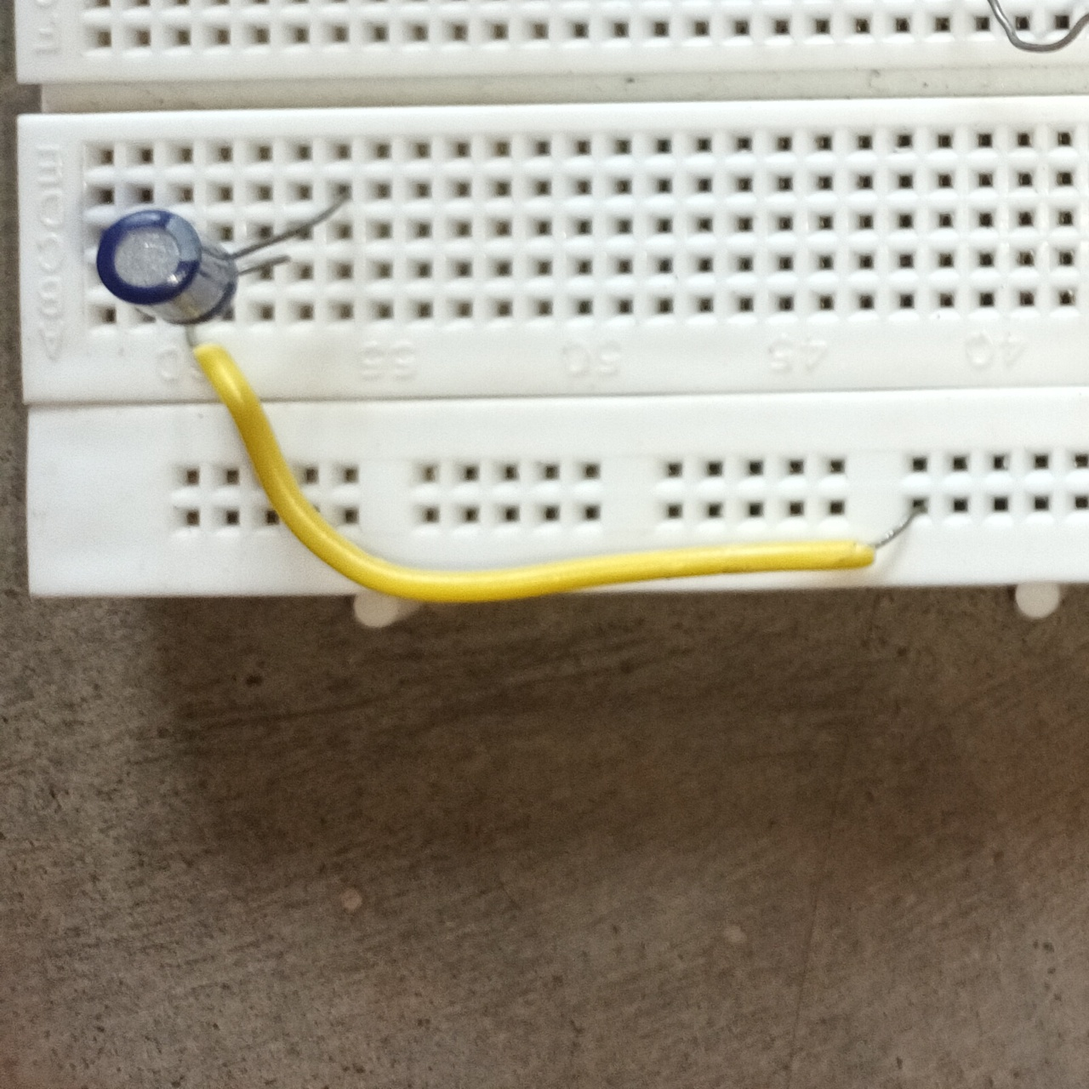capacitor: (94, 208, 240, 329)
